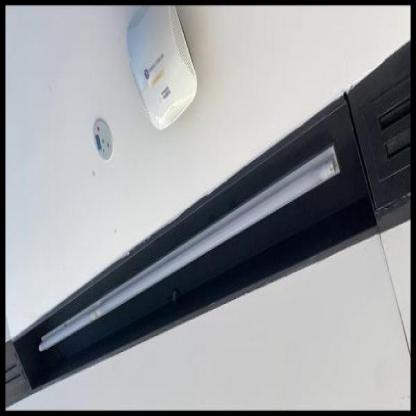light_off: (34, 126, 346, 358)
